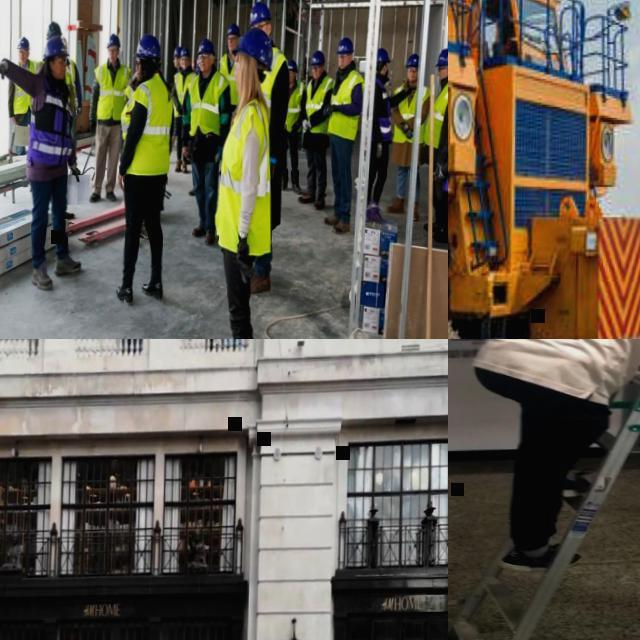helmet: (232, 26, 276, 72), (134, 31, 163, 58), (44, 35, 72, 59), (250, 0, 274, 25), (198, 36, 218, 56), (337, 36, 356, 54), (46, 19, 62, 38), (311, 49, 327, 65), (378, 46, 393, 62), (108, 32, 122, 48), (437, 47, 448, 66), (228, 22, 242, 36), (18, 35, 32, 48), (288, 57, 300, 72), (408, 53, 420, 68), (181, 45, 192, 57), (173, 44, 183, 56), (62, 33, 69, 43), (304, 55, 312, 61), (198, 56, 202, 66)
machinery: (448, 0, 640, 339)
mask: (384, 64, 390, 76)
no_mask: (54, 64, 67, 76), (200, 60, 212, 70), (408, 72, 418, 82), (339, 60, 351, 68), (440, 71, 448, 83), (110, 53, 119, 62), (230, 41, 238, 50), (236, 73, 240, 91), (314, 70, 323, 78), (138, 66, 143, 79), (21, 54, 28, 62), (183, 61, 190, 67), (290, 75, 296, 82), (176, 60, 180, 66)
no_vest: (477, 339, 640, 395)
person: (470, 339, 640, 569), (0, 32, 90, 288), (211, 22, 280, 339), (115, 29, 178, 306), (243, 0, 294, 292), (180, 34, 235, 246), (367, 46, 416, 227), (322, 34, 366, 232), (87, 30, 132, 202), (389, 52, 432, 222), (299, 48, 336, 210), (34, 17, 82, 114), (425, 46, 448, 242), (170, 44, 200, 174), (8, 33, 40, 154), (282, 56, 309, 193), (432, 49, 448, 252), (59, 32, 86, 152), (217, 20, 243, 120), (170, 44, 189, 160), (303, 54, 314, 82)
vest: (214, 94, 276, 254), (120, 70, 176, 174), (27, 69, 76, 164), (187, 66, 232, 134), (328, 68, 366, 140), (258, 43, 290, 128), (93, 59, 133, 119), (393, 82, 432, 142), (305, 73, 336, 135), (34, 58, 72, 102), (426, 75, 448, 148), (374, 76, 396, 144), (13, 57, 39, 110), (218, 52, 242, 104), (286, 79, 309, 132), (174, 68, 198, 115), (66, 56, 80, 114), (173, 70, 180, 106), (125, 82, 136, 98), (302, 64, 311, 82)
